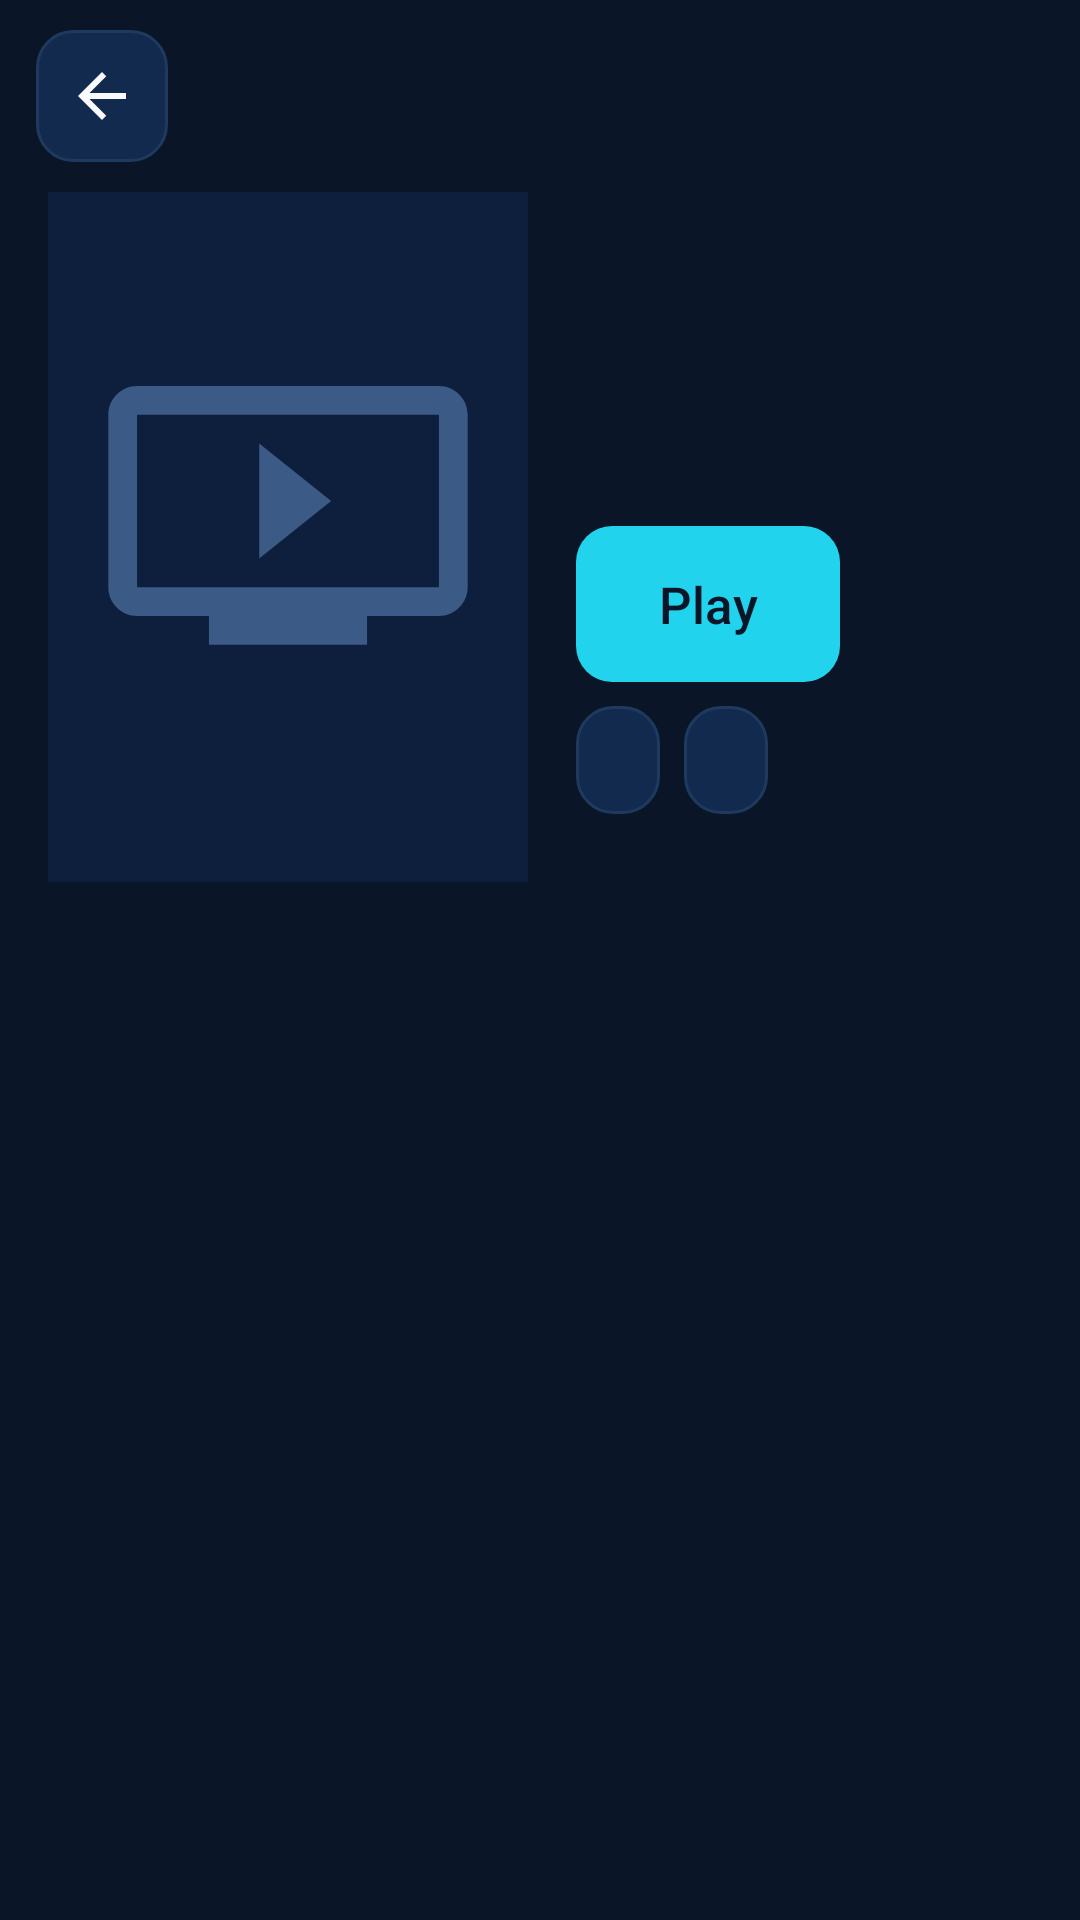

Locate icon controls on the screen. Image size 1080×1920, boxes as {"left": x1, "top": y1, "right": x2, "bottom": y2}.
Back: {"left": 36, "top": 30, "right": 168, "bottom": 162}
